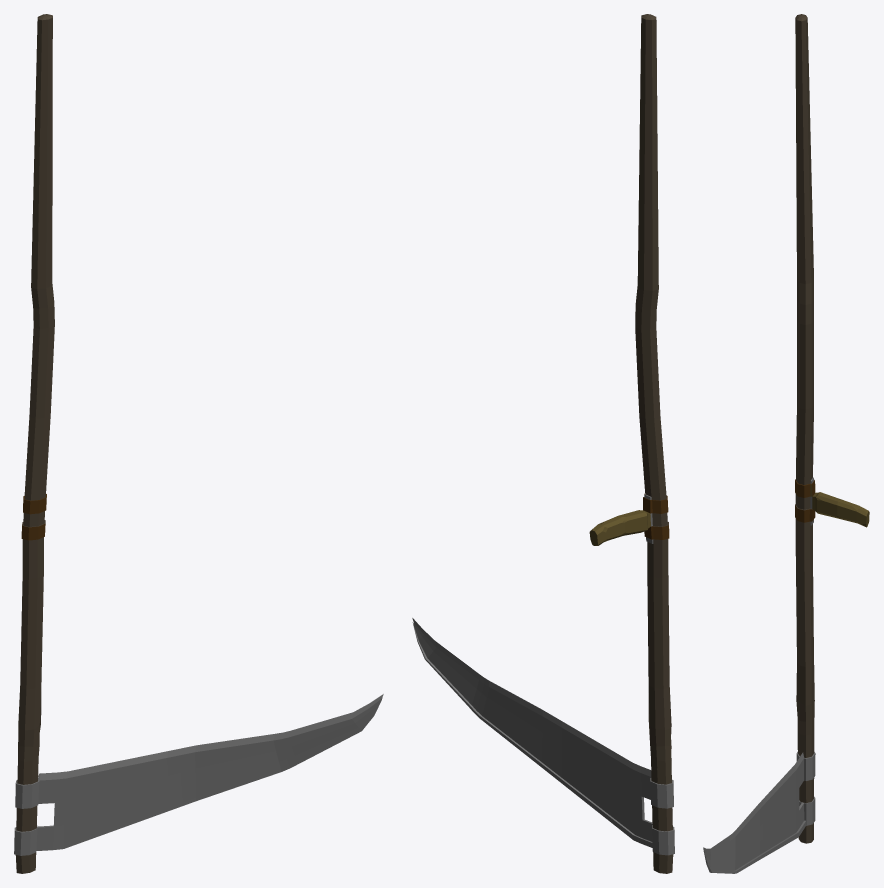
Rendered from scythe.fbx.
The picture shows the model from 3 angles, left to right: view 1: azimuth 30°, elevation 25°; view 2: azimuth 150°, elevation 25°; view 3: azimuth 270°, elevation 25°; orthographic projection. The views are drawn at different scales.
Visible parts, largest first — view 1: Scythe; view 2: Scythe; view 3: Scythe.
Boxes of the visible parts, x1,y1,x2,y2 form: Scythe: [14, 14, 383, 873]; Scythe: [412, 14, 674, 873]; Scythe: [703, 14, 869, 873].
Size of the model in its own units: 0.4173 by 1.08 by 0.1944.
